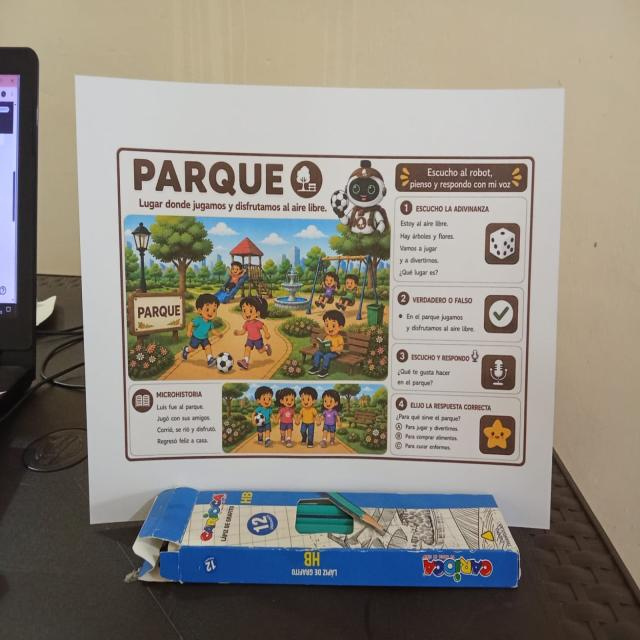parque: (113, 141, 541, 472)
